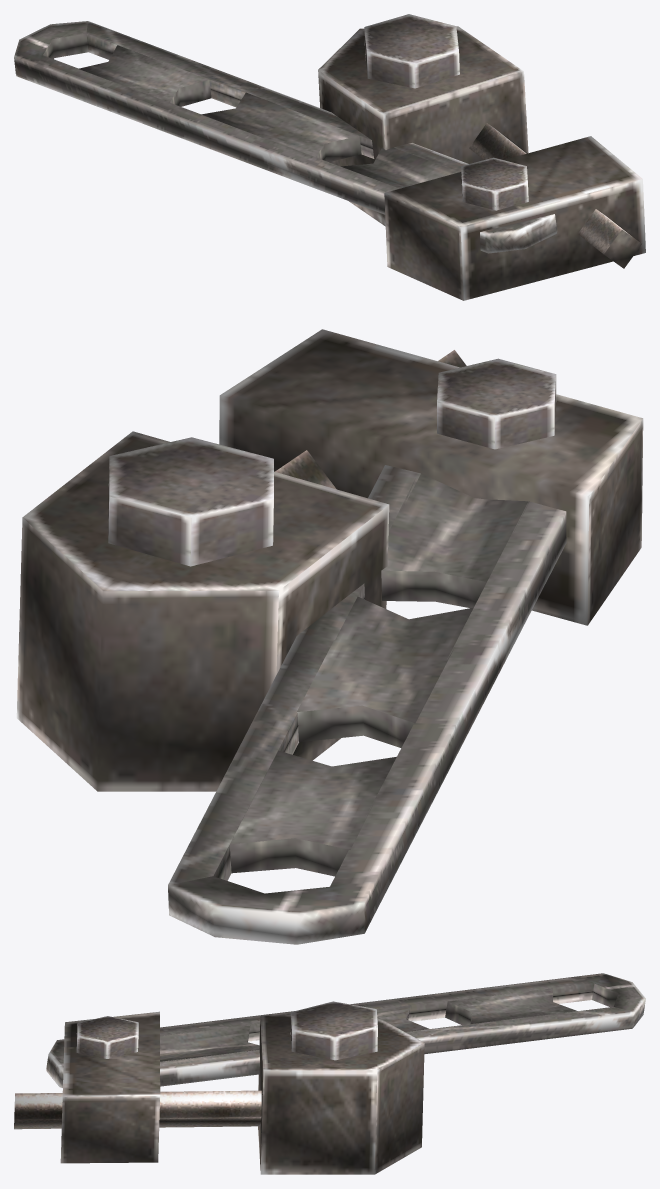
File: Robot01.RightForeArm3.fbx
3 views of the same model, one above another, from view 1: azimuth 30°, elevation 25°; view 2: azimuth 150°, elevation 25°; view 3: azimuth 270°, elevation 25° (orthographic). The views are drawn at different scales.
Parts seen in each view (by area): view 1: Robot.027; view 2: Robot.027; view 3: Robot.027.
Part boxes in pixels (x1,y1,x2,y2): Robot.027: (14,14,645,300); Robot.027: (16,329,643,944); Robot.027: (14,973,645,1174).
Size of the model in its own units: 33.25 by 14.06 by 61.64.
